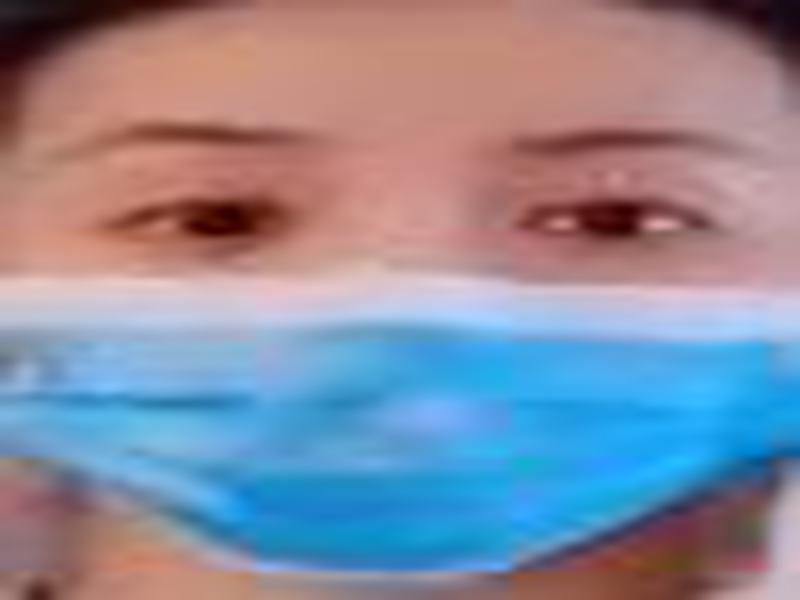with_mask: (1, 1, 796, 587)
